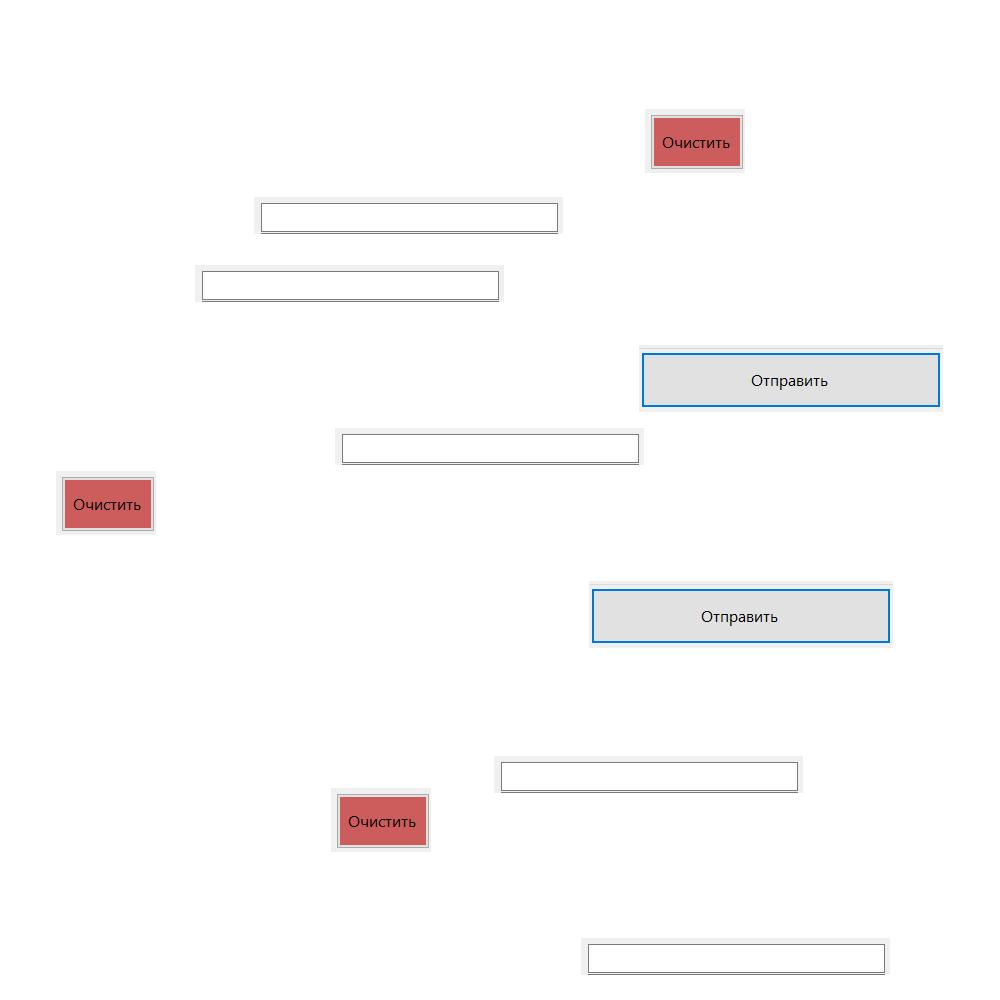Button: (639, 345, 943, 412), (589, 581, 893, 648), (645, 109, 745, 173), (56, 471, 156, 535), (331, 788, 431, 852)
EditText-: (195, 265, 504, 302), (581, 938, 890, 975), (254, 197, 563, 234), (335, 428, 644, 465), (494, 756, 803, 793)
